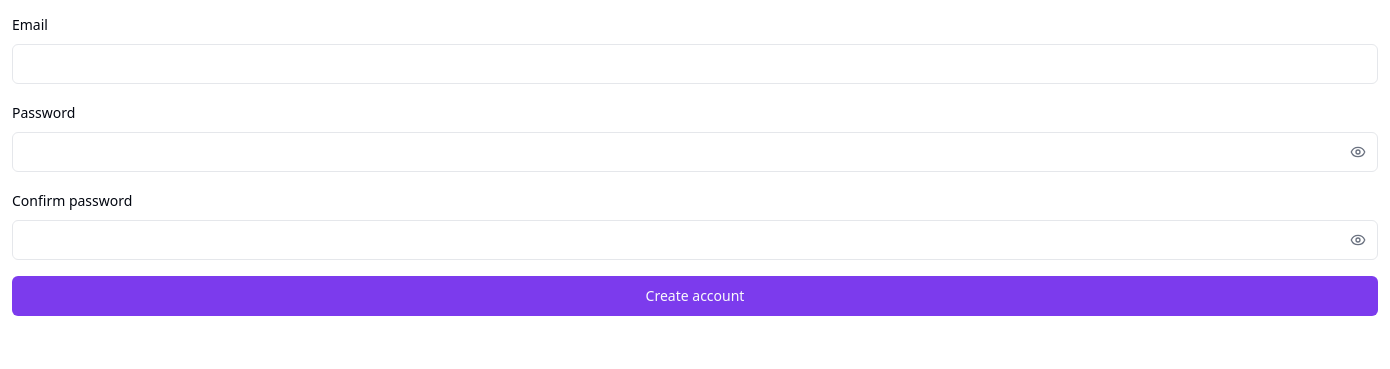
Test: RegisterForm › shows the closed-registration message with a sign-in link on 403
This screenshot has width=1390, height=369.
In the field labelled "Email": (695, 64) x1=12 y1=44 x2=1378 y2=84, type "me@example.com"
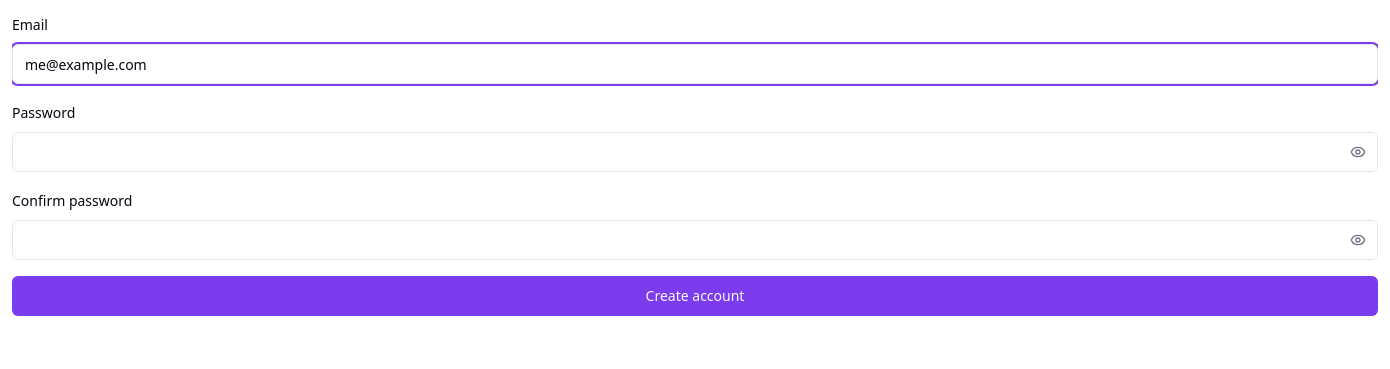
In the password field labelled "Password": (695, 152) x1=12 y1=132 x2=1378 y2=172, type "longenough"
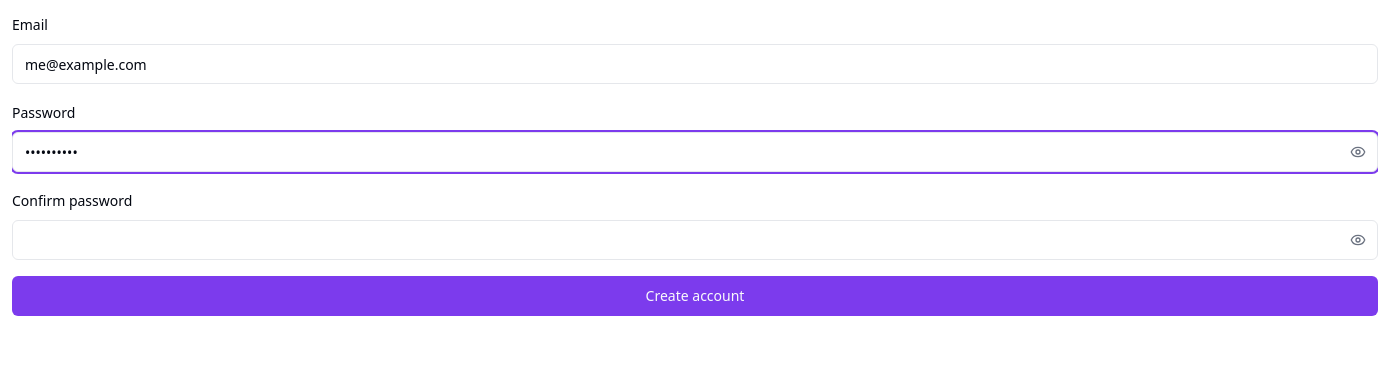
In the password field labelled "Confirm password": (695, 240) x1=12 y1=220 x2=1378 y2=260, type "longenough"
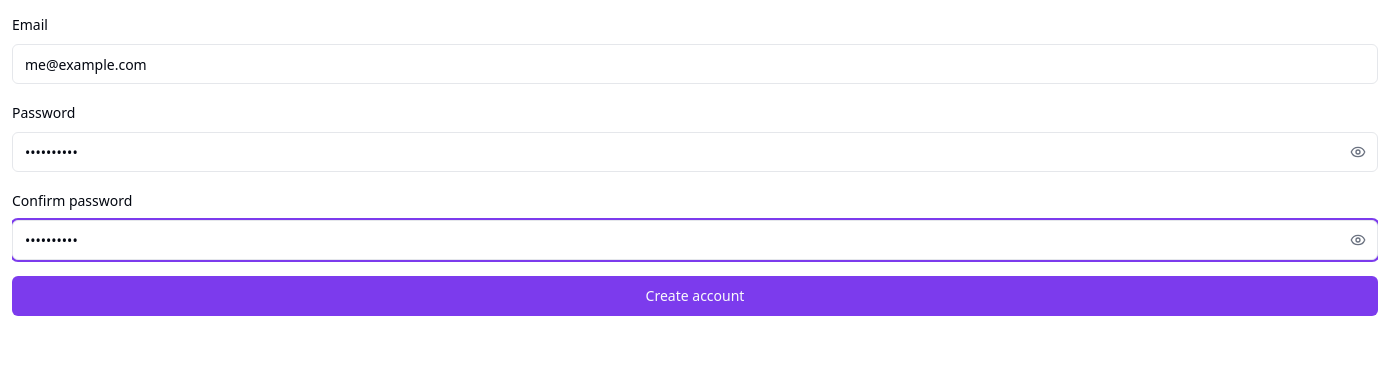
Click the button "Create account": (695, 296) x1=12 y1=276 x2=1378 y2=316
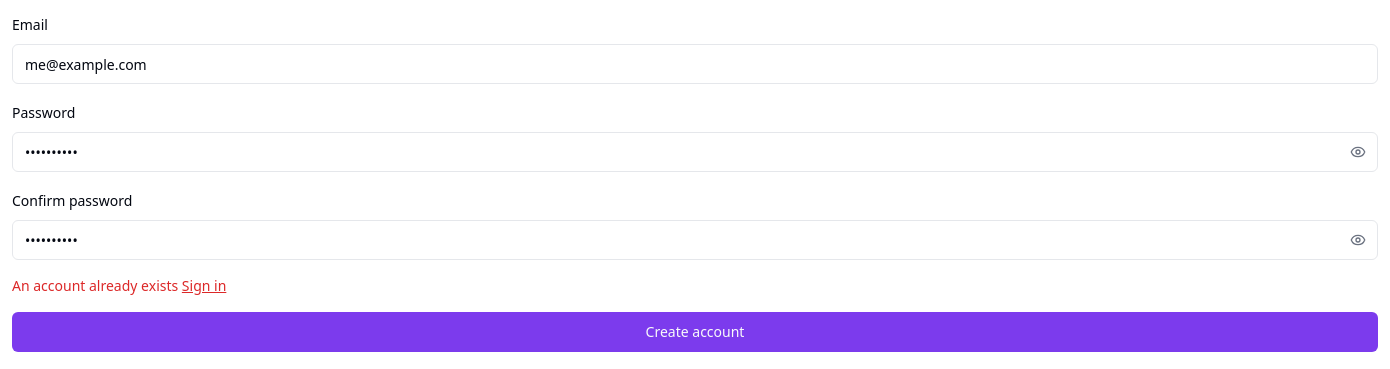
expect the message shows "An account already exists": met, box x1=12 y1=276 x2=178 y2=295
